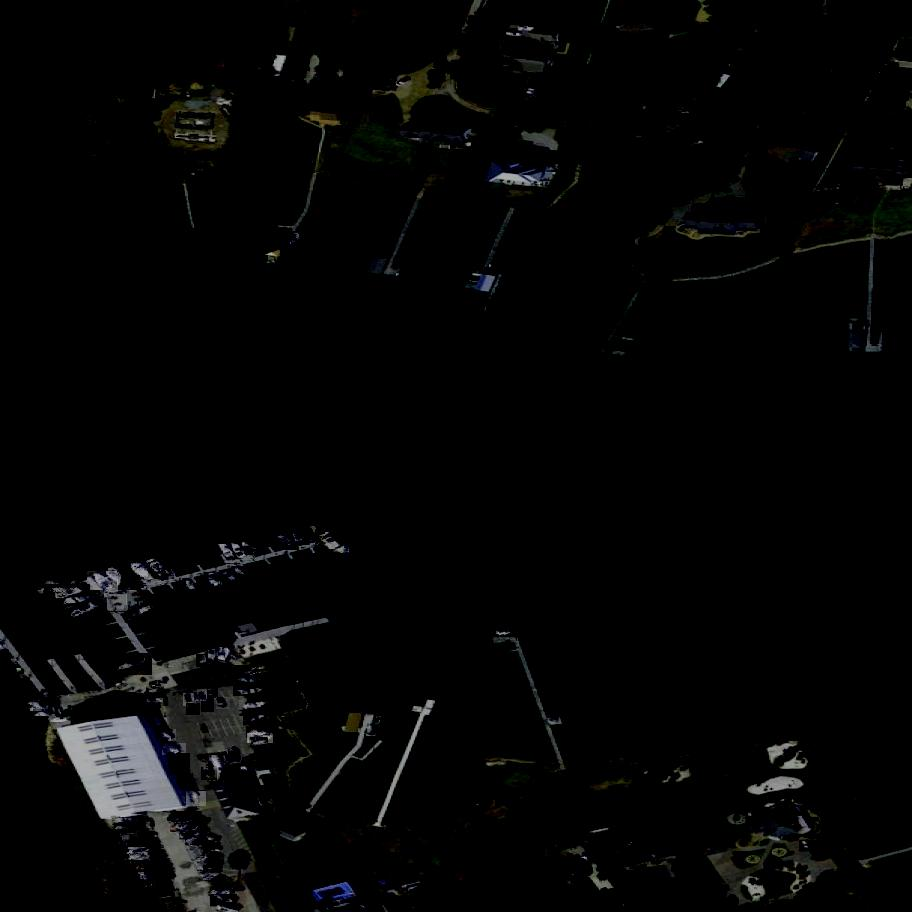ship: (316, 524, 363, 569), (124, 555, 162, 589), (65, 597, 108, 625), (57, 589, 104, 612), (113, 652, 152, 678), (87, 567, 120, 596), (281, 228, 311, 257), (226, 537, 256, 565), (148, 556, 175, 583), (44, 585, 91, 600), (274, 526, 299, 554), (216, 540, 240, 568), (125, 604, 157, 624), (108, 564, 128, 592), (108, 590, 129, 616), (231, 665, 259, 683), (205, 568, 226, 592), (219, 567, 243, 588), (26, 698, 61, 712), (31, 707, 63, 722), (127, 588, 147, 611), (140, 877, 168, 893), (290, 526, 311, 547), (175, 813, 197, 833), (179, 825, 203, 842), (210, 893, 237, 908), (234, 686, 265, 699), (182, 576, 201, 596), (144, 882, 171, 896), (185, 831, 206, 849), (172, 810, 197, 825), (240, 701, 268, 714), (231, 563, 250, 582), (243, 713, 268, 727), (244, 541, 264, 558), (131, 855, 155, 869), (247, 733, 274, 745), (115, 822, 138, 835), (128, 841, 149, 855), (246, 726, 270, 738), (233, 676, 259, 686), (218, 646, 233, 663), (136, 861, 157, 873), (126, 847, 154, 856), (129, 852, 151, 863), (251, 738, 270, 750), (143, 697, 168, 706), (124, 839, 148, 848), (487, 631, 516, 638), (112, 818, 141, 825), (210, 890, 235, 898), (197, 653, 209, 669), (137, 872, 161, 879), (119, 834, 141, 841), (209, 650, 220, 662), (139, 876, 162, 881), (375, 716, 385, 726)
small-vehicle: (167, 750, 191, 771), (168, 758, 189, 780), (186, 787, 206, 810), (162, 742, 186, 760), (178, 777, 200, 793), (159, 727, 176, 746), (799, 838, 815, 856), (186, 703, 200, 717), (201, 698, 215, 712), (210, 755, 225, 768), (201, 767, 216, 780), (197, 689, 209, 702), (217, 698, 230, 709), (228, 750, 239, 761), (184, 694, 194, 706), (209, 688, 218, 697)
